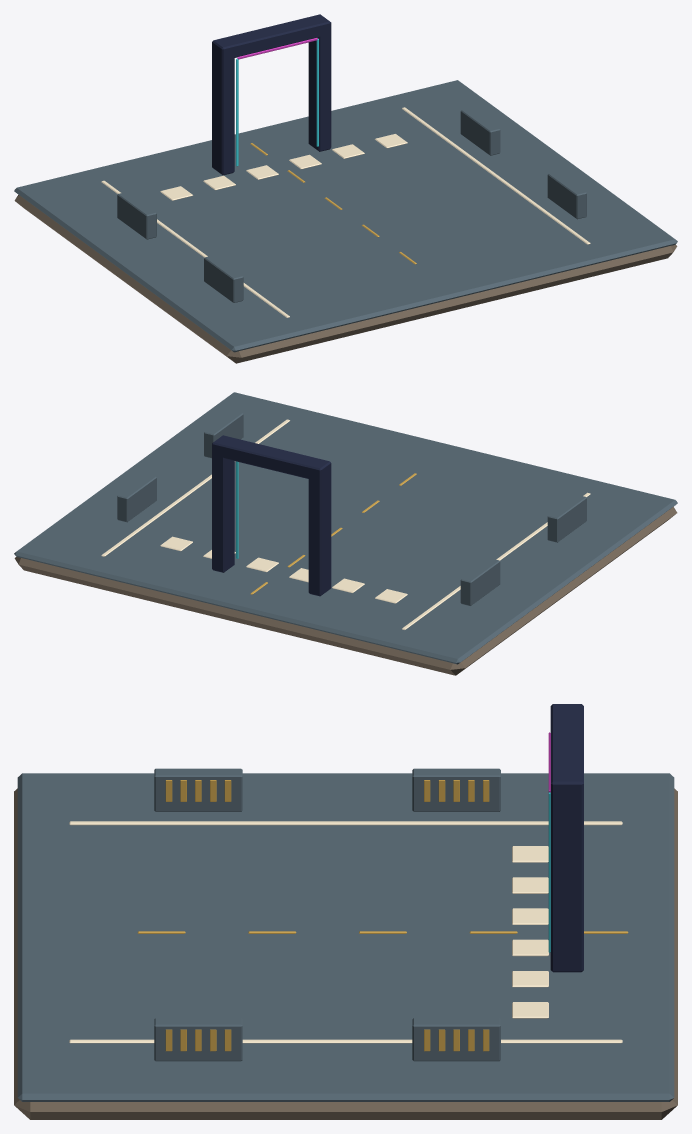
File: world-race.glb
3 views of the same model, one above another, from view 1: azimuth 30°, elevation 25°; view 2: azimuth 150°, elevation 25°; view 3: azimuth 270°, elevation 25° (orthographic). The views are drawn at different scales.
Parts seen in each view (by area): view 1: terrain-top, terrain-stratum, portal-pillar.002, portal-lintel.001, portal-pillar.003, barrier.004, barrier.001, barrier.002, barrier.003, track-edge.001; view 2: terrain-top, terrain-stratum, portal-pillar.002, portal-pillar.003, portal-lintel.001, barrier.003, barrier.001, barrier.004, barrier.002, track-edge.001, track-edge; view 3: terrain-top, terrain-stratum, portal-pillar.003, barrier.002, barrier.004, barrier.001, barrier.003, portal-lintel.001, track-edge, track-edge.001, finish-line.003, finish-line (+4 smaller).
Boxes of the visible parts, x1,y1,x2,y2 form: terrain-top: [14, 80, 677, 352]; terrain-stratum: [14, 195, 677, 363]; portal-pillar.002: [212, 49, 234, 175]; portal-lintel.001: [212, 14, 331, 59]; portal-pillar.003: [308, 30, 331, 151]; barrier.004: [460, 108, 500, 155]; barrier.001: [204, 255, 243, 302]; barrier.002: [547, 171, 586, 219]; barrier.003: [117, 192, 156, 239]; track-edge.001: [402, 107, 590, 244]; terrain-top: [14, 392, 677, 664]; terrain-stratum: [14, 507, 677, 675]; portal-pillar.002: [308, 470, 331, 596]; portal-pillar.003: [212, 450, 234, 572]; portal-lintel.001: [212, 435, 331, 480]; barrier.003: [460, 558, 500, 605]; barrier.001: [547, 495, 586, 542]; barrier.004: [117, 474, 156, 522]; barrier.002: [204, 411, 243, 458]; track-edge.001: [101, 419, 289, 556]; track-edge: [402, 492, 590, 629]; terrain-top: [17, 773, 674, 1101]; terrain-stratum: [14, 788, 677, 1119]; portal-pillar.003: [550, 794, 583, 972]; barrier.002: [154, 1018, 242, 1061]; barrier.004: [412, 1018, 500, 1061]; barrier.001: [154, 768, 242, 811]; barrier.003: [412, 768, 500, 811]; portal-lintel.001: [550, 704, 583, 800]; track-edge: [69, 821, 622, 825]; track-edge.001: [69, 1039, 622, 1043]; finish-line.003: [512, 939, 548, 956]; finish-line: [512, 846, 548, 862].
Bounding box in the file's own units: 21 × 6.59 × 18.
